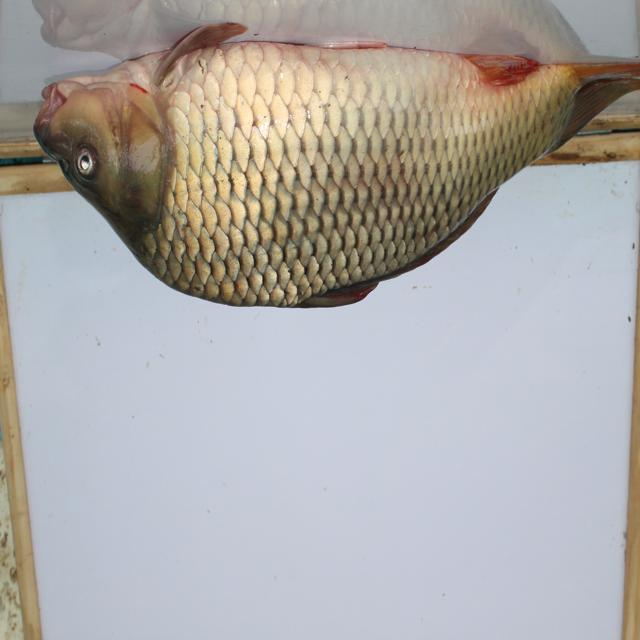CommonCarp: (45, 28, 640, 320)
